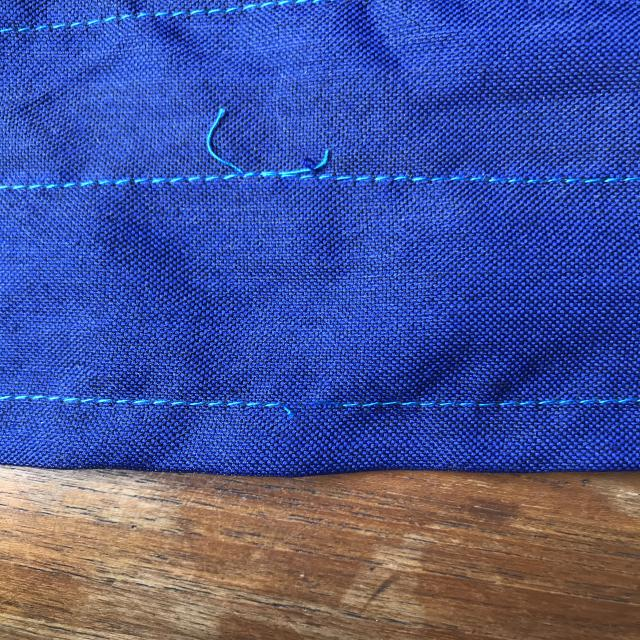broken: (245, 381, 388, 429)
